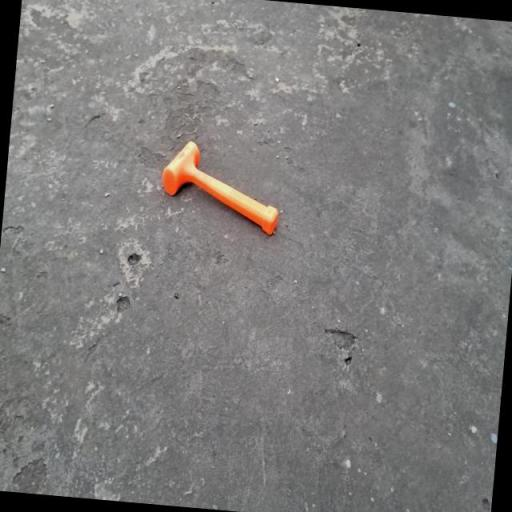mallet: (157, 138, 282, 234)
